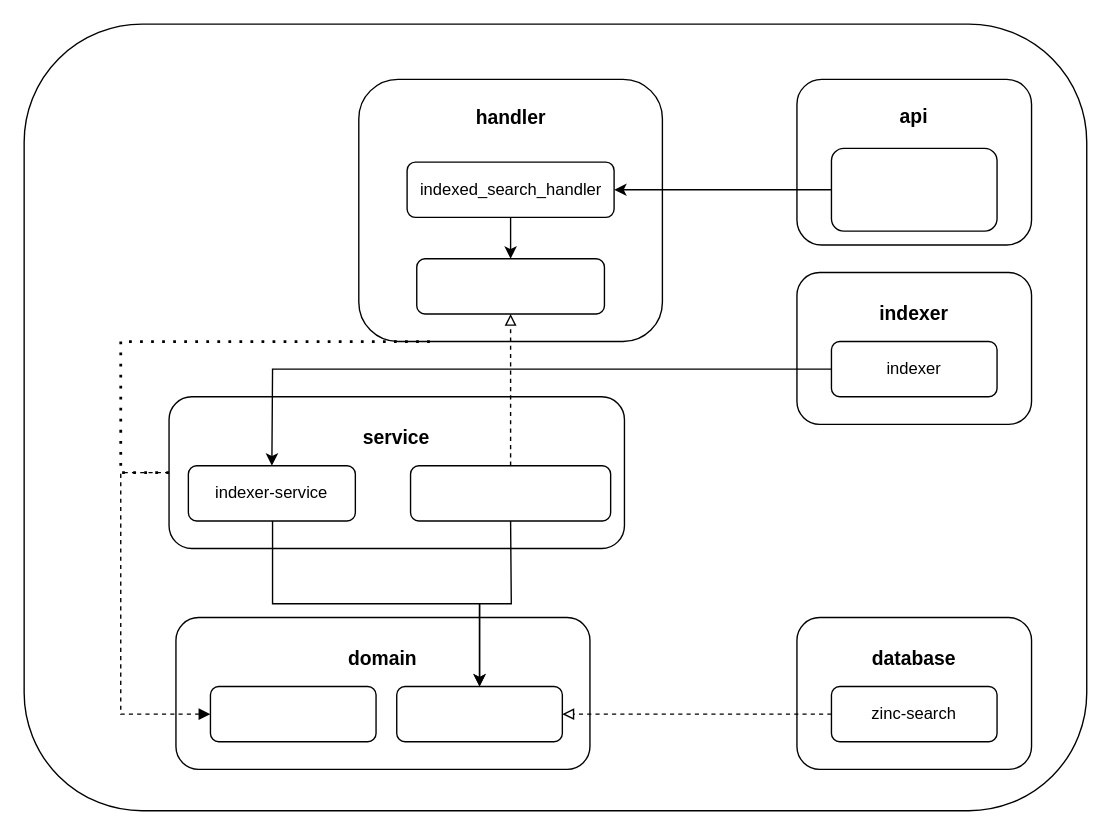
The diagram is 1111 pixels wide and 835 high, and some of its shapes have lost their labels. Here are the shapes that lost their labels. From the top down, the centre of each, then its label:
point 913,189: api router
point 509,285: i_indexed_search
point 510,492: indexed-search-service
point 292,713: email
point 478,713: i-email
